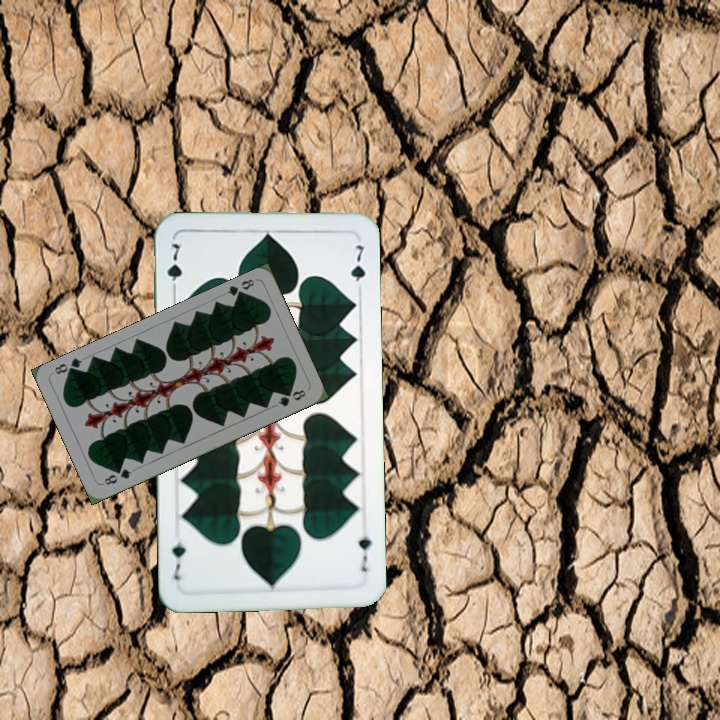G7: (163, 239, 185, 296), (354, 532, 374, 575)
G8: (223, 275, 257, 302), (100, 464, 134, 488)
